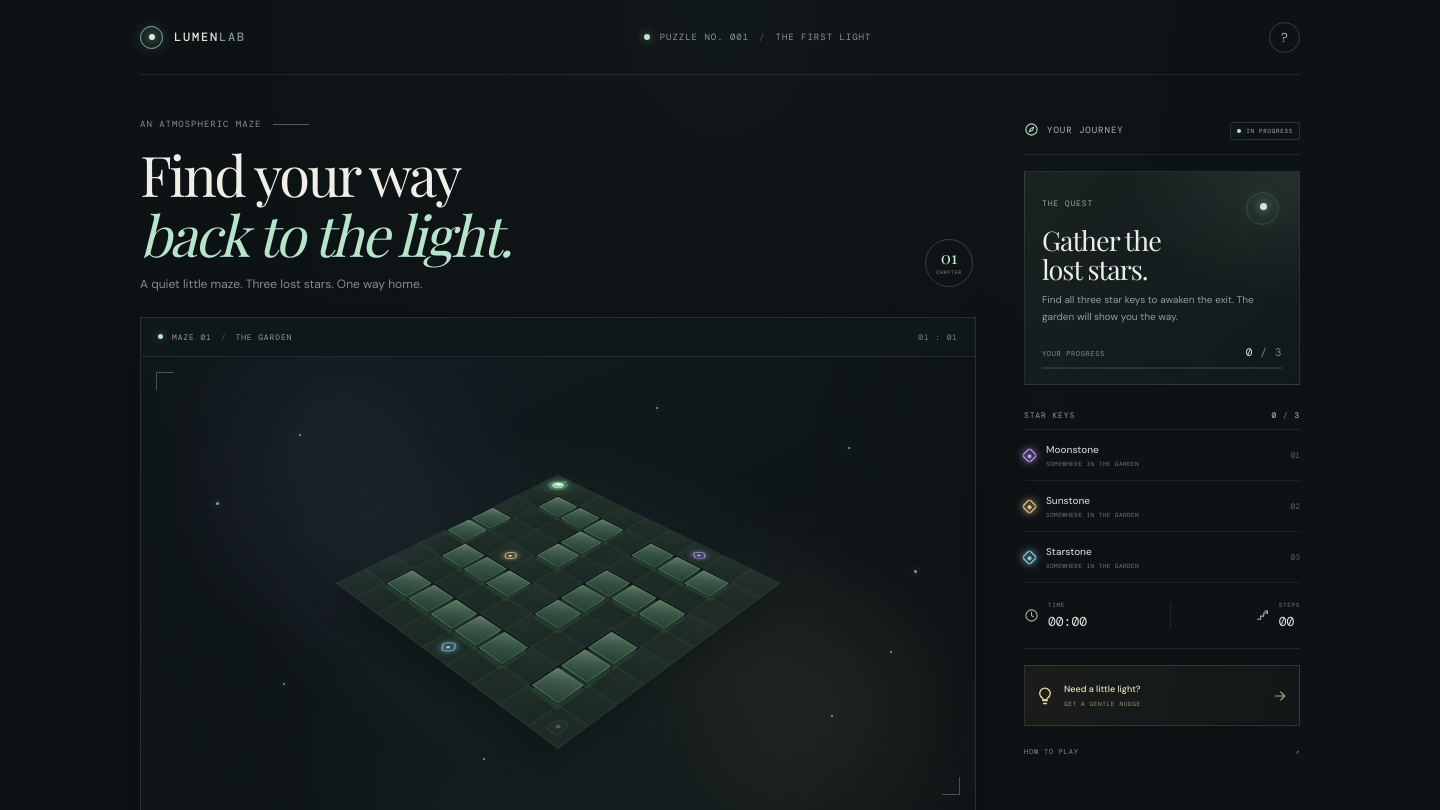
Scenario: opens and closes the instructions
Click the button named "open how to play" at (1284, 37), box [1269,22,1300,52]
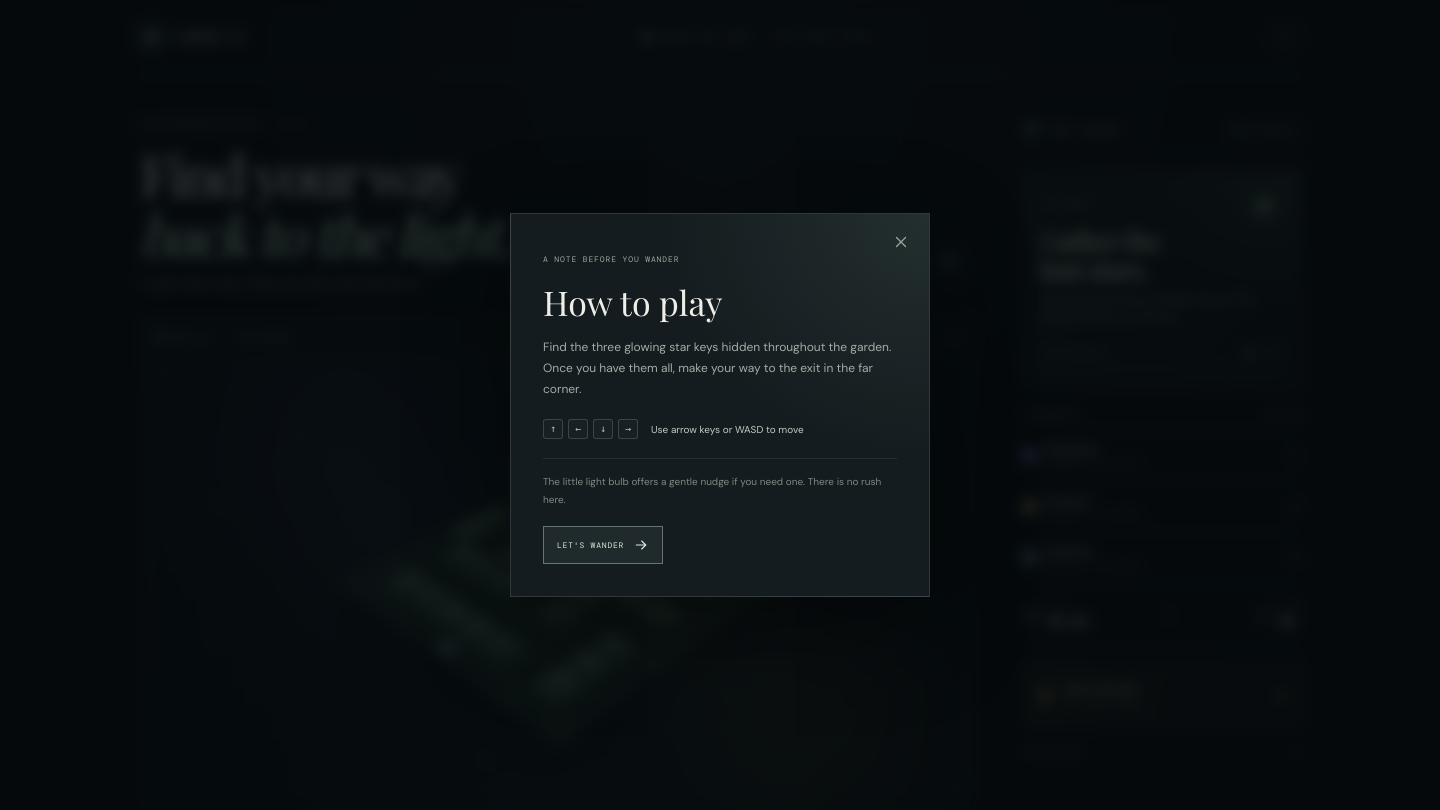
Result: the dialog "How to play" is shown at [510,213,930,597]
Click the button named "close instructions" at (901, 242), box [887,228,915,256]
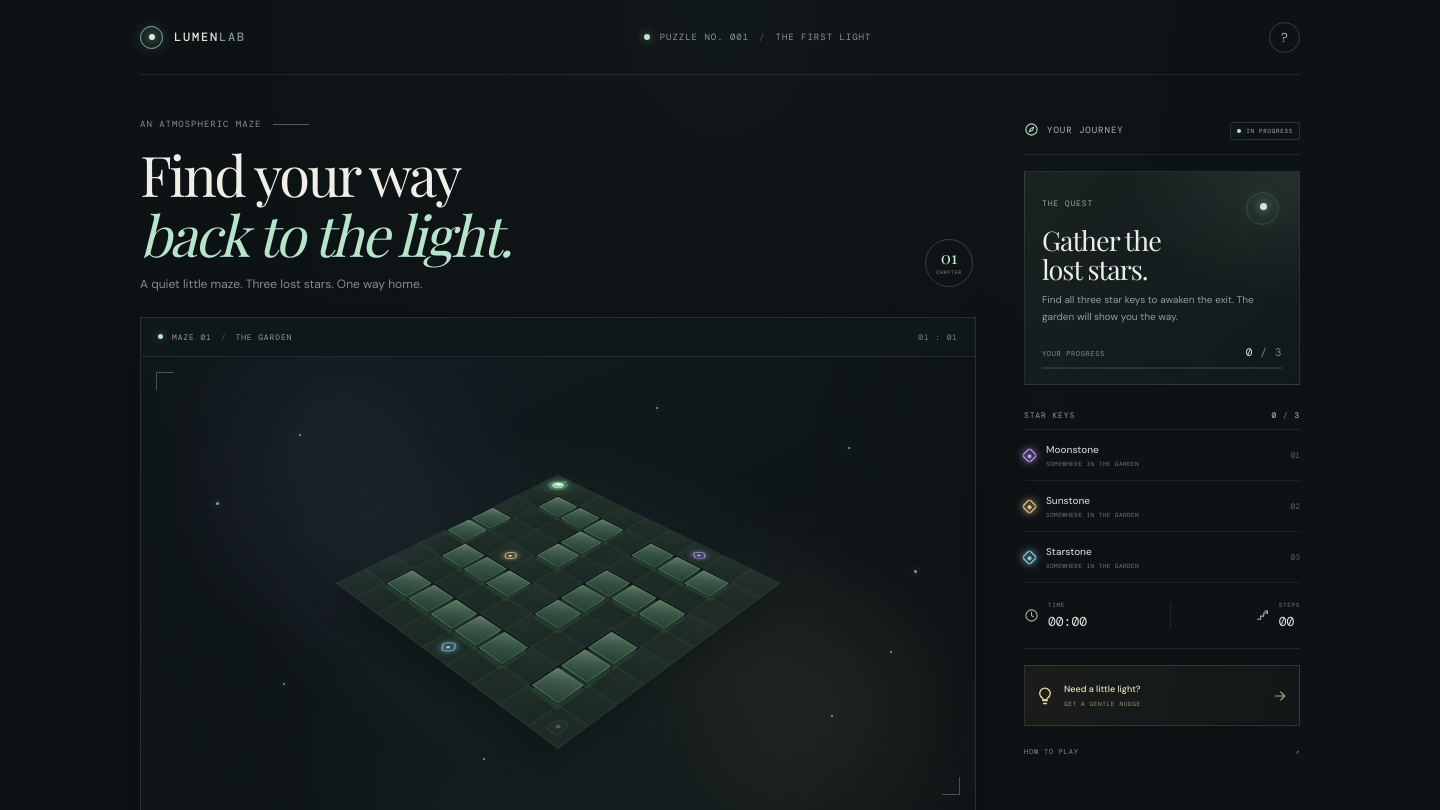
Result: the dialog is gone
